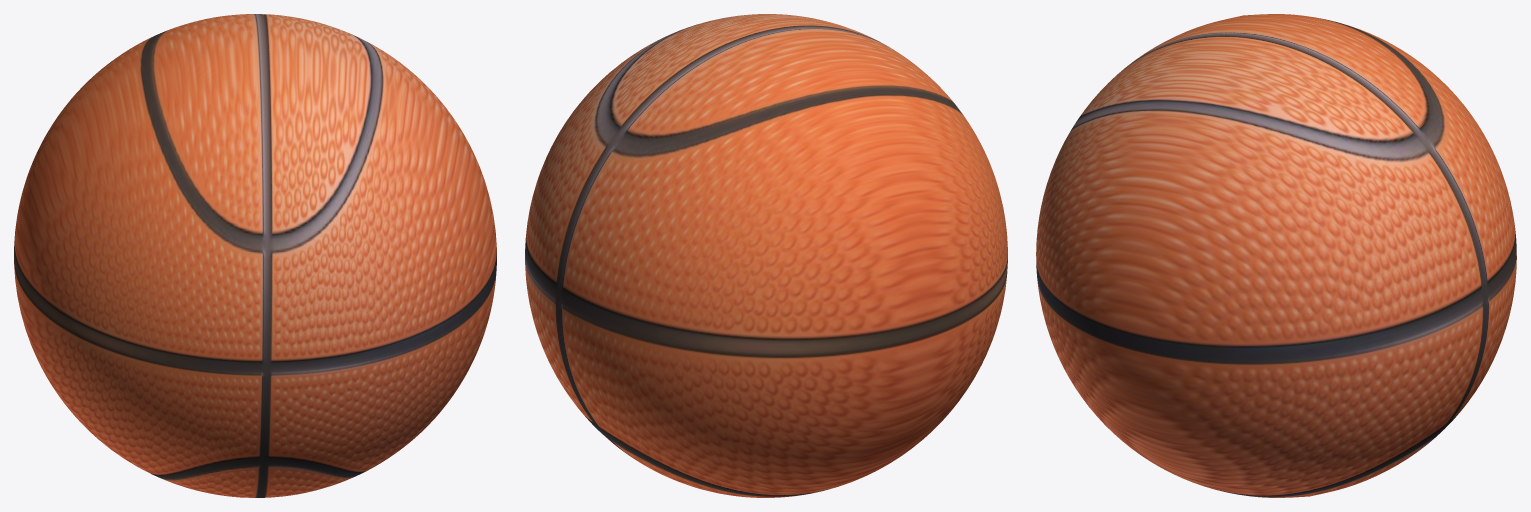
The model's file is pelota basket.obj.
3 renders of one model, left to right at view 1: azimuth 30°, elevation 25°; view 2: azimuth 150°, elevation 25°; view 3: azimuth 270°, elevation 25°, orthographic.
Visible parts, largest first — view 1: Sphere; view 2: Sphere; view 3: Sphere.
Boxes of the visible parts, bbox=[...] form: Sphere: bbox=[14, 14, 496, 497]; Sphere: bbox=[525, 14, 1007, 497]; Sphere: bbox=[1036, 14, 1516, 497].
Size of the model in its own units: 8.97 by 9.01 by 8.96.
